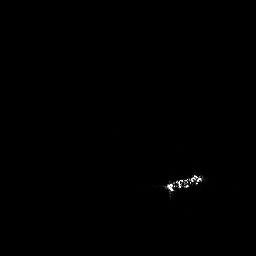ship: (161, 170, 205, 203)
